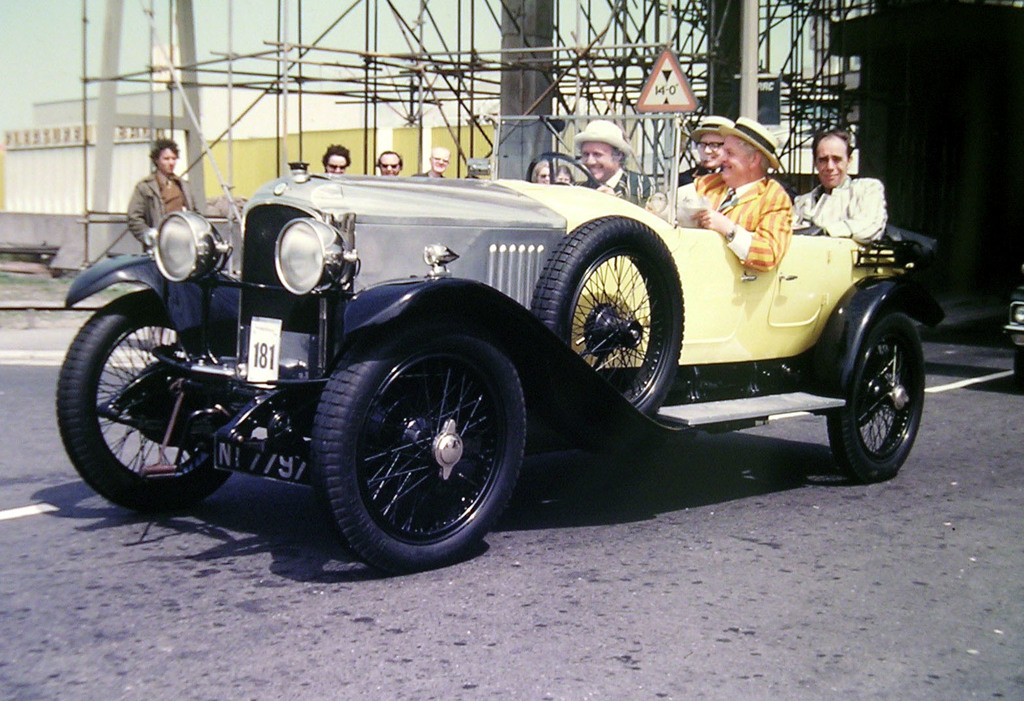Car: (56, 114, 946, 577), (1004, 268, 1023, 390)
